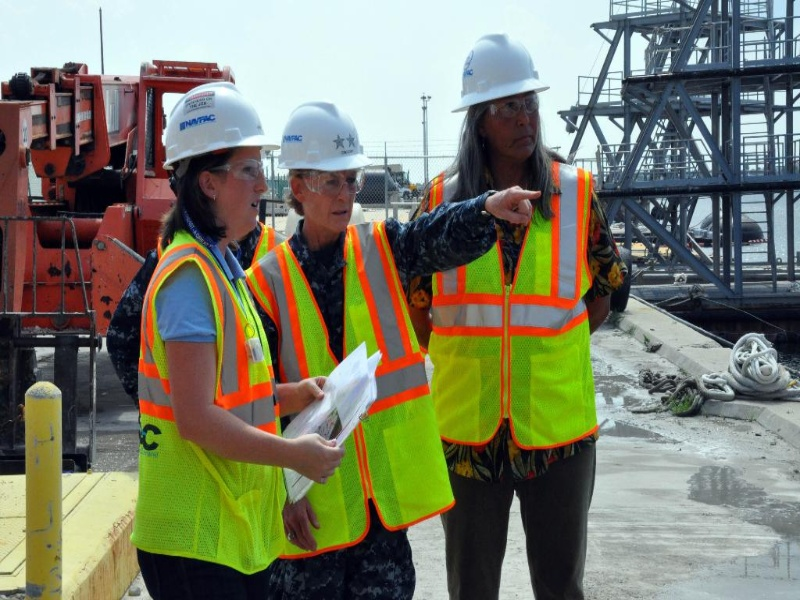helmet: (167, 84, 273, 156), (453, 35, 550, 108), (282, 102, 367, 172)
jacket: (263, 225, 464, 535), (429, 166, 606, 452), (138, 234, 285, 559)
